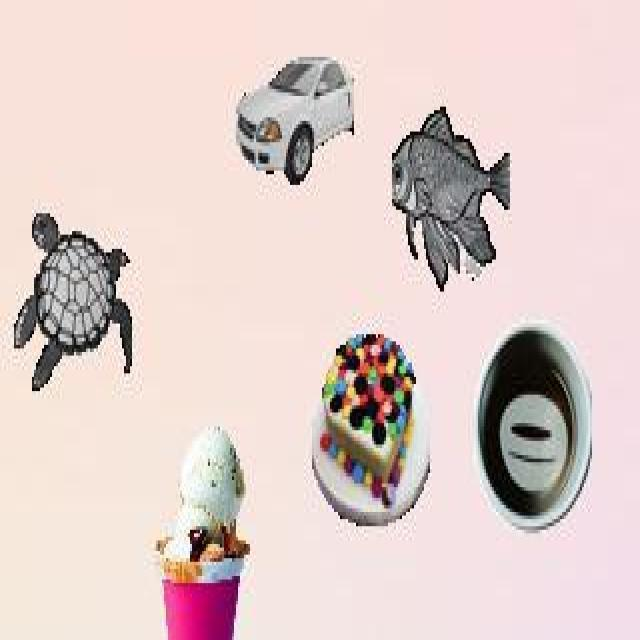Other Objects: (472, 317, 594, 536)
